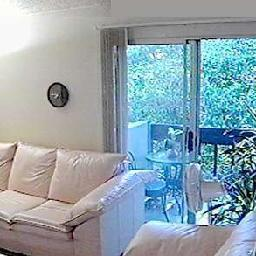Otro Obstaculo: (185, 162, 228, 227)
